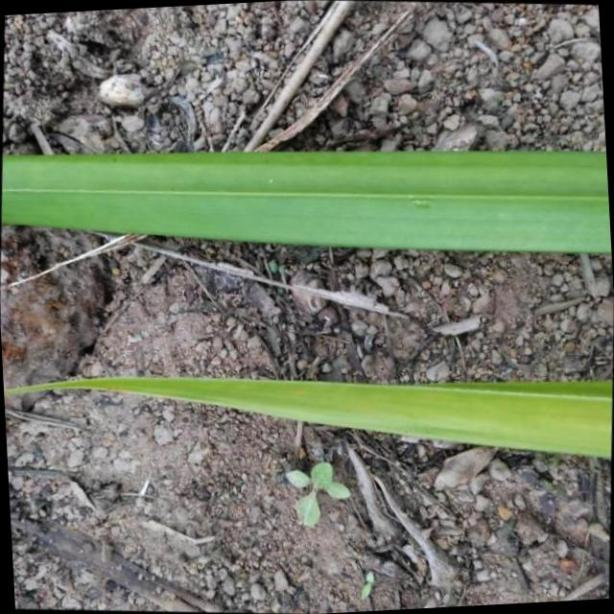nitrogen: (0, 141, 614, 257), (7, 373, 614, 461)
